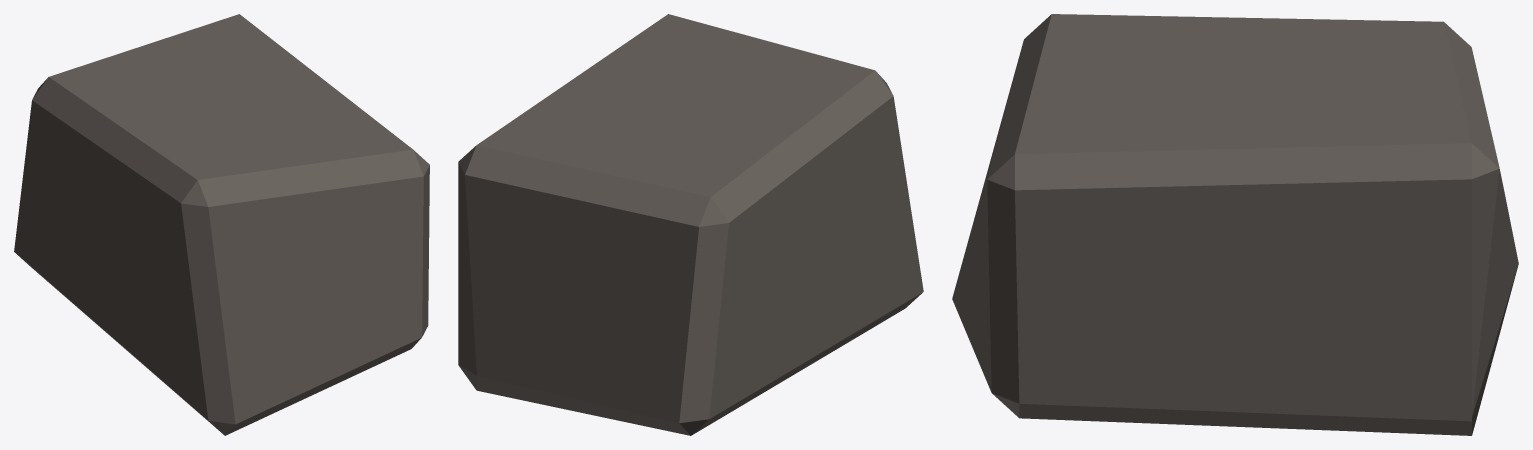
Rendered from Bridge_brick_decoration.fbx.
3 renders of one model, left to right at view 1: azimuth 30°, elevation 25°; view 2: azimuth 150°, elevation 25°; view 3: azimuth 270°, elevation 25°, orthographic. The views are drawn at different scales.
Parts seen in each view (by area): view 1: Bridge_brick_decoration; view 2: Bridge_brick_decoration; view 3: Bridge_brick_decoration.
Part boxes in pixels (<box>): Bridge_brick_decoration: <box>14,14,429,435</box>; Bridge_brick_decoration: <box>458,14,923,435</box>; Bridge_brick_decoration: <box>952,14,1518,435</box>.
Bounding box in the file's own units: 193 × 185 × 307.
